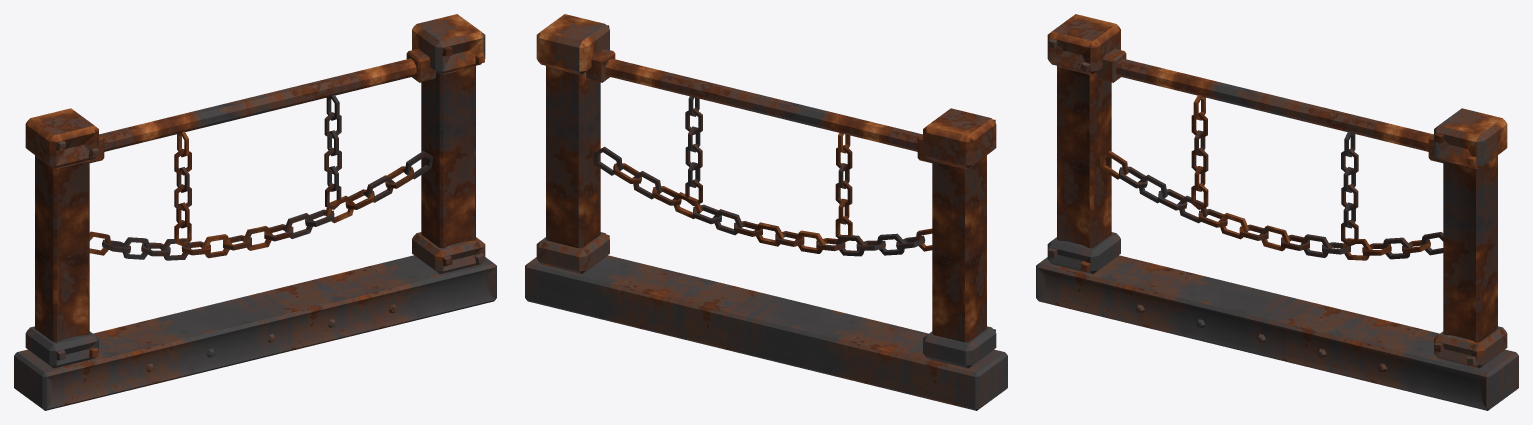
File: Railing.glb
3 renders of one model, left to right at view 1: azimuth 30°, elevation 25°; view 2: azimuth 150°, elevation 25°; view 3: azimuth 330°, elevation 25°, orthographic.
Visible parts, largest first — view 1: Railing; view 2: Railing; view 3: Railing.
Boxes of the visible parts, left/top/right/bottom form: Railing: left=14, top=14, right=496, bottom=410; Railing: left=525, top=14, right=1007, bottom=410; Railing: left=1036, top=14, right=1518, bottom=410.
Size of the model in its own units: 2 by 1.14 by 0.2568.
Materials: 2 (2 with a texture image).
